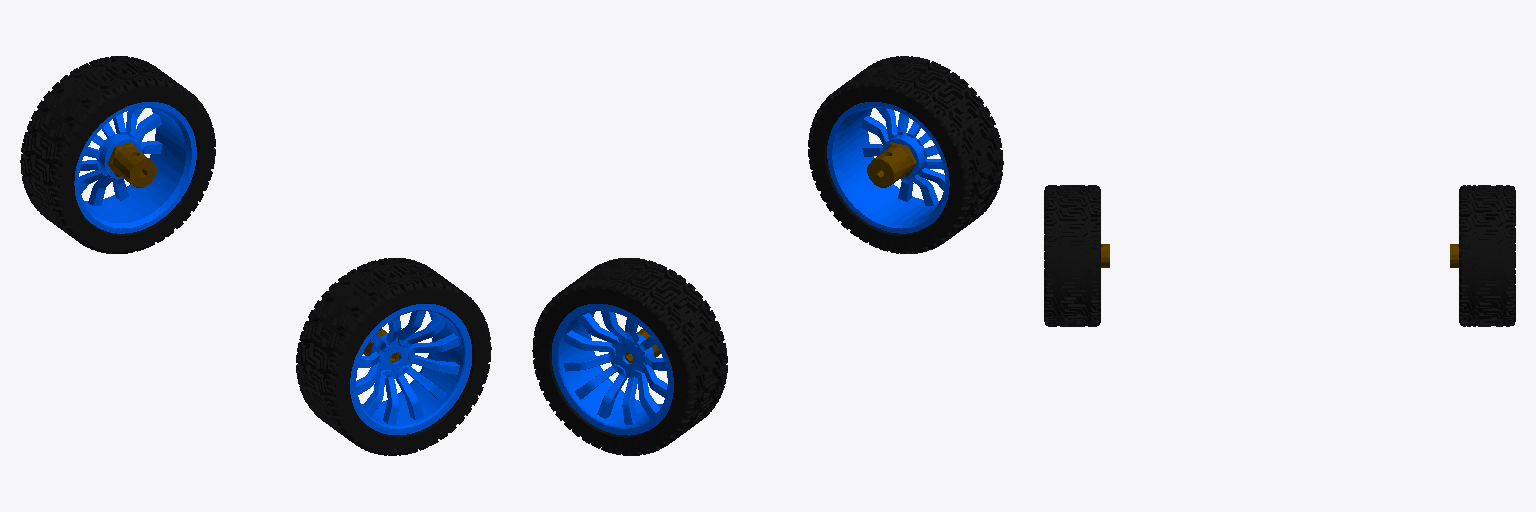
robot.urdf — lmr1:
<?xml version="1.0" ?>
<!-- =================================================================================== -->
<!-- |    This document was autogenerated by xacro from robot.urdf.xacro               | -->
<!-- |    EDITING THIS FILE BY HAND IS NOT RECOMMENDED                                 | -->
<!-- =================================================================================== -->
<robot name="lmr1">
  <!-- ==================== -->
  <!-- Constants -->
  <!-- ==================== -->
  <!-- ==================== -->
  <!-- Base Dimensions -->
  <!-- ==================== -->
  <!-- ==================== -->
  <!-- Wheel Dimensions -->
  <!-- ==================== -->
  <!-- ==================== -->
  <!-- Caster -->
  <!-- ==================== -->
  <!-- ==================== -->
  <!-- Sensors -->
  <!-- ==================== -->
  <!-- ========================================= -->
  <!-- Box inertia -->
  <!-- ========================================= -->
  <!-- =============================================== -->
  <!-- Solid Sphere Inertia -->
  <!-- =============================================== -->
  <!-- ========================================= -->
  <!-- Cylinder inertia -->
  <!-- cylinder aligned with z-axis -->
  <!-- ========================================= -->
  <link name="base_link">
    <inertial>
      <origin rpy="0 0 0" xyz="0.065                      0.0                      0.055"/>
      <mass value="2.0"/>
      <inertia ixx="0.007066666666666666" ixy="0.0" ixz="0.0" iyy="0.016666666666666666" iyz="0.0" izz="0.020399999999999998"/>
    </inertial>
    <!-- ======================== -->
    <!-- Visual -->
    <!-- ======================== -->
    <visual>
      <origin rpy="0 0 0" xyz="0 0 0"/>
      <geometry>
        <mesh filename="package://lmr1_description/meshes/base_light.dae"/>
      </geometry>
    </visual>
    <!-- ======================== -->
    <!-- Collision -->
    <!-- ======================== -->
    <collision>
      <origin rpy="0 0 0" xyz="0.065                      0.0                      0.055"/>
      <geometry>
        <box size="0.3                            0.18                            0.1"/>
      </geometry>
    </collision>
  </link>
  <link name="caster_wheel_link">
    <inertial>
      <origin rpy="0 0 0" xyz="0 0 0"/>
      <mass value="0.05"/>
      <inertia ixx="1.2800000000000005e-06" ixy="0.0" ixz="0.0" iyy="1.2800000000000005e-06" iyz="0.0" izz="1.2800000000000005e-06"/>
    </inertial>
    <collision>
      <origin rpy="0 0 0" xyz="0 0 0"/>
      <geometry>
        <sphere radius="0.008"/>
      </geometry>
    </collision>
  </link>
  <joint name="caster_wheel_joint" type="fixed">
    <origin rpy="0 0 0" xyz="0.175                  0.0                  -0.0255"/>
    <parent link="base_link"/>
    <child link="caster_wheel_link"/>
  </joint>
  <!-- ======================== -->
  <!-- IMU -->
  <!-- ======================== -->
  <link name="imu_link">
    <collision>
      <geometry>
        <box size="0.01 0.01 0.01"/>
      </geometry>
    </collision>
    <inertial>
      <origin rpy="0 0 0" xyz="0 0 0"/>
      <mass value="0.01"/>
      <inertia ixx="0.000001" ixy="0.0" ixz="0.0" iyy="0.000001" iyz="0.0" izz="0.000001"/>
    </inertial>
  </link>
  <joint name="imu_joint" type="fixed">
    <origin rpy="0 0 0" xyz="-0.06                  0.0                  0.06"/>
    <parent link="base_link"/>
    <child link="imu_link"/>
  </joint>
  <!-- ======================== -->
  <!-- LiDAR -->
  <!-- ======================== -->
  <link name="lidar_link"/>
  <joint name="lidar_joint" type="fixed">
    <origin rpy="0 0 0" xyz="0.04                  0.0                  0.12"/>
    <parent link="base_link"/>
    <child link="lidar_link"/>
  </joint>
  <!-- ======================== -->
  <!-- Wheel Link -->
  <!-- ======================== -->
  <link name="left_wheel_link">
    <!-- Inertial -->
    <inertial>
      <origin rpy="0 0 0" xyz="0 0 0"/>
      <mass value="0.15"/>
      <inertia ixx="4.4609375e-05" ixy="0.0" ixz="0.0" iyy="4.4609375e-05" iyz="0.0" izz="7.921875e-05"/>
    </inertial>
    <!-- Visual -->
    <visual>
      <origin rpy="0 -1.570796326795 0" xyz="0 0 0"/>
      <geometry>
        <mesh filename="package://lmr1_description/meshes/wheel_light.dae"/>
      </geometry>
    </visual>
    <!-- Collision -->
    <collision>
      <origin rpy="0 0 0" xyz="0 0 0"/>
      <geometry>
        <cylinder length="0.02" radius="0.0325"/>
      </geometry>
    </collision>
  </link>
  <!-- ======================== -->
  <!-- Wheel Joint -->
  <!-- ======================== -->
  <joint name="left_wheel_joint" type="continuous">
    <origin rpy="-1.570796326795 0 0" xyz="0 0.1 0.0"/>
    <parent link="base_link"/>
    <child link="left_wheel_link"/>
    <axis xyz="0 0 1"/>
  </joint>
  <!-- ======================== -->
  <!-- Wheel Link -->
  <!-- ======================== -->
  <link name="right_wheel_link">
    <!-- Inertial -->
    <inertial>
      <origin rpy="0 0 0" xyz="0 0 0"/>
      <mass value="0.15"/>
      <inertia ixx="4.4609375e-05" ixy="0.0" ixz="0.0" iyy="4.4609375e-05" iyz="0.0" izz="7.921875e-05"/>
    </inertial>
    <!-- Visual -->
    <visual>
      <origin rpy="0 -1.570796326795 0" xyz="0 0 0"/>
      <geometry>
        <mesh filename="package://lmr1_description/meshes/wheel_light.dae"/>
      </geometry>
    </visual>
    <!-- Collision -->
    <collision>
      <origin rpy="0 0 0" xyz="0 0 0"/>
      <geometry>
        <cylinder length="0.02" radius="0.0325"/>
      </geometry>
    </collision>
  </link>
  <!-- ======================== -->
  <!-- Wheel Joint -->
  <!-- ======================== -->
  <joint name="right_wheel_joint" type="continuous">
    <origin rpy="1.570796326795 0 0" xyz="0 -0.1 0.0"/>
    <parent link="base_link"/>
    <child link="right_wheel_link"/>
    <axis xyz="0 0 -1"/>
  </joint>
  <gazebo>
    <plugin filename="libgazebo_ros_diff_drive.so" name="diff_drive_controller">
      <!-- ROS namespace -->
      <robotNamespace>/lmr1</robotNamespace>
      <!-- wheels -->
      <leftJoint>left_wheel_joint</leftJoint>
      <rightJoint>right_wheel_joint</rightJoint>
      <!-- geometry -->
      <wheelSeparation>0.2</wheelSeparation>
      <wheelDiameter>0.065</wheelDiameter>
      <!-- dynamics -->
      <wheelTorque>5</wheelTorque>
      <wheelAcceleration>10</wheelAcceleration>
      <!-- topics -->
      <commandTopic>cmd_vel</commandTopic>
      <odometryTopic>odom</odometryTopic>
      <!-- frames -->
      <odometryFrame>odom</odometryFrame>
      <robotBaseFrame>base_link</robotBaseFrame>
      <!-- TF -->
      <publishWheelTF>false</publishWheelTF>
      <publishWheelJointState>false</publishWheelJointState>
      <publishOdomTF>true</publishOdomTF>
      <!-- odometry -->
      <odometrySource>world</odometrySource>
      <!-- debug -->
      <rosDebugLevel>na</rosDebugLevel>
      <!-- update -->
      <updateRate>50</updateRate>
    </plugin>
  </gazebo>
  <gazebo reference="left_wheel_link">
    <mu1>2.0</mu1>
    <mu2>2.0</mu2>
    <kp>1000000.0</kp>
    <kd>100.0</kd>
  </gazebo>
  <gazebo reference="right_wheel_link">
    <mu1>2.0</mu1>
    <mu2>2.0</mu2>
    <kp>1000000.0</kp>
    <kd>100.0</kd>
  </gazebo>
  <gazebo reference="caster_wheel_link">
    <mu1>0.6</mu1>
    <mu2>0.6</mu2>
    <kp>100000.0</kp>
    <kd>10.0</kd>
  </gazebo>
  <gazebo reference="lidar_link">
    <sensor name="ld19_lidar" type="ray">
      <pose>0 0 0 0 0 0</pose>
      <visualize>false</visualize>
      <update_rate>10</update_rate>
      <ray>
        <scan>
          <horizontal>
            <samples>450</samples>
            <resolution>1</resolution>
            <min_angle>-3.141592</min_angle>
            <max_angle>3.141592</max_angle>
          </horizontal>
        </scan>
        <range>
          <min>0.2</min>
          <max>12.0</max>
          <resolution>0.01</resolution>
        </range>
        <noise>
          <type>gaussian</type>
          <mean>0.0</mean>
          <stddev>0.01</stddev>
        </noise>
      </ray>
      <plugin filename="libgazebo_ros_laser.so" name="gazebo_ros_laser">
        <topicName>/scan</topicName>
        <frameName>lidar_link</frameName>
      </plugin>
    </sensor>
  </gazebo>
  <gazebo reference="imu_link">
    <gravity>true</gravity>
    <sensor name="imu_sensor" type="imu">
      <pose>0 0 0 0 0 0</pose>
      <always_on>true</always_on>
      <visualize>false</visualize>
      <update_rate>100</update_rate>
      <plugin filename="libgazebo_ros_imu_sensor.so" name="imu_plugin">
        <topicName>imu</topicName>
        <bodyName>imu_link</bodyName>
        <updateRateHZ>100.0</updateRateHZ>
        <gaussianNoise>0.002</gaussianNoise>
        <frameName>imu_link</frameName>
        <initialOrientationAsReference>false</initialOrientationAsReference>
      </plugin>
    </sensor>
  </gazebo>
</robot>

--- Render facts (derived) ---
The picture shows the robot from 3 angles, left to right: view 1: azimuth 30°, elevation 25°; view 2: azimuth 150°, elevation 25°; view 3: azimuth 270°, elevation 25°; orthographic projection.
Model lmr1 with 6 links and 5 joints (2 continuous, 3 fixed), rooted at base_link, posed every joint at zero.
Links seen in each view (by area): view 1: left_wheel_link, right_wheel_link; view 2: left_wheel_link, right_wheel_link; view 3: right_wheel_link, left_wheel_link.
Boxes of the visible links, x1=… form: left_wheel_link: x1=20, y1=56, x2=215, y2=253; right_wheel_link: x1=296, y1=258, x2=491, y2=455; left_wheel_link: x1=532, y1=258, x2=727, y2=455; right_wheel_link: x1=808, y1=56, x2=1003, y2=253; right_wheel_link: x1=1044, y1=185, x2=1109, y2=326; left_wheel_link: x1=1450, y1=185, x2=1515, y2=326.
Size in the robot's own frame: 0.068 by 0.227 by 0.068 metres.
Meshes: 2 distinct files referenced, 2 mesh visuals loaded (1 Collada DAE); not drawn: 1 (reference not matched to a file when rendering).
